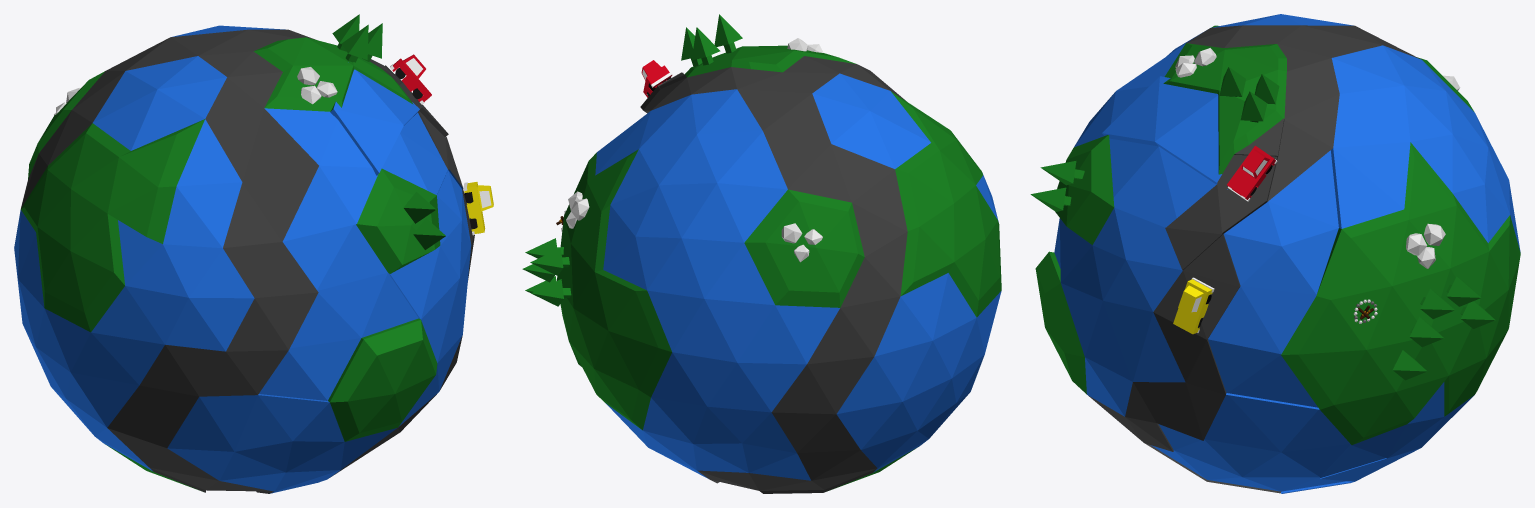
The model's file is earth.glb.
The picture shows the model from 3 angles, left to right: view 1: azimuth 30°, elevation 25°; view 2: azimuth 150°, elevation 25°; view 3: azimuth 270°, elevation 25°; orthographic projection. The views are drawn at different scales.
Parts seen in each view (by area): view 1: Icosphere, Cube.003, Cube, Cone.009, Cone.012, Cone.011; view 2: Icosphere, Cube; view 3: Icosphere, Cube.003, Cube, Cone.008, Cone.009, Cone.001, Cone.004, Cone.006, Cone.005, Cone.002.
Part boxes in pixels (<box>): Icosphere: <box>14,25,474,493</box>; Cube.003: <box>463,182,493,235</box>; Cube: <box>390,54,431,104</box>; Cone.009: <box>341,24,368,59</box>; Cone.012: <box>413,218,445,249</box>; Cone.011: <box>403,192,435,223</box>; Icosphere: <box>557,45,1001,493</box>; Cube: <box>641,60,672,97</box>; Icosphere: <box>1035,14,1520,493</box>; Cube.003: <box>1173,277,1214,334</box>; Cube: <box>1227,145,1277,201</box>; Cone.008: <box>1240,91,1267,121</box>; Cone.009: <box>1219,67,1245,96</box>; Cone.001: <box>1446,276,1480,306</box>; Cone.004: <box>1409,317,1443,347</box>; Cone.006: <box>1420,289,1454,319</box>; Cone.005: <box>1393,350,1427,380</box>; Cone.002: <box>1461,301,1495,328</box>.
Bounding box in the file's own units: 15.45 × 16.12 × 15.76.
